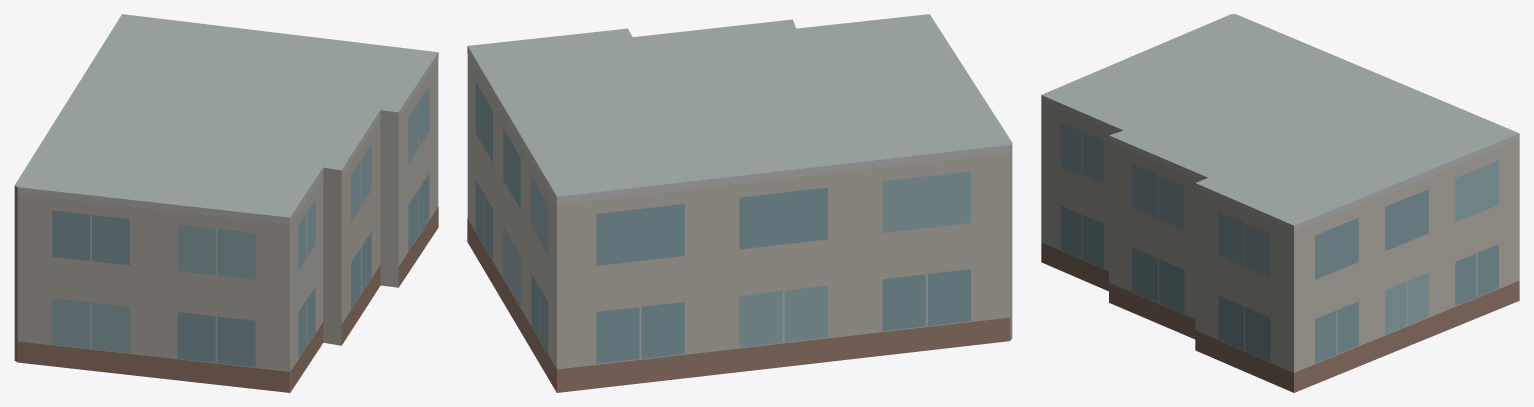
The model's file is survey-upis-32675869.glb.
The picture shows the model from 3 angles, left to right: view 1: azimuth 30°, elevation 25°; view 2: azimuth 150°, elevation 25°; view 3: azimuth 270°, elevation 25°; orthographic projection. The views are drawn at different scales.
Parts seen in each view (by area): view 1: survey-upis-32675869.tmp; view 2: survey-upis-32675869.tmp; view 3: survey-upis-32675869.tmp.
Boxes of the visible parts, left/top/right/bottom form: survey-upis-32675869.tmp: left=14, top=14, right=438, bottom=392; survey-upis-32675869.tmp: left=467, top=14, right=1012, bottom=392; survey-upis-32675869.tmp: left=1041, top=14, right=1519, bottom=392.
Size of the model in its own units: 16.56 by 6.1 by 15.82.
